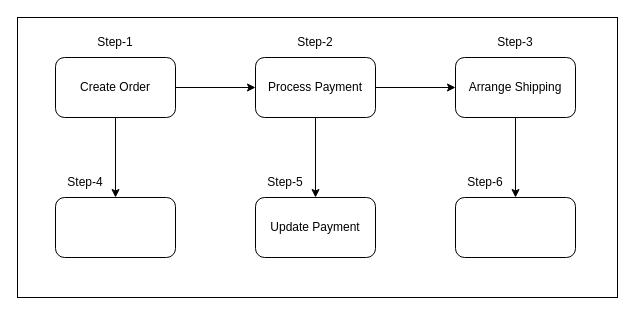
Some shapes in this 635 by 315 pixel diagram are drawn without their labels. The centre of each missing label's shape, as x and y in pixels:
"Update Order" goes at (x=115, y=227).
"Update Shipping" goes at (x=515, y=227).
